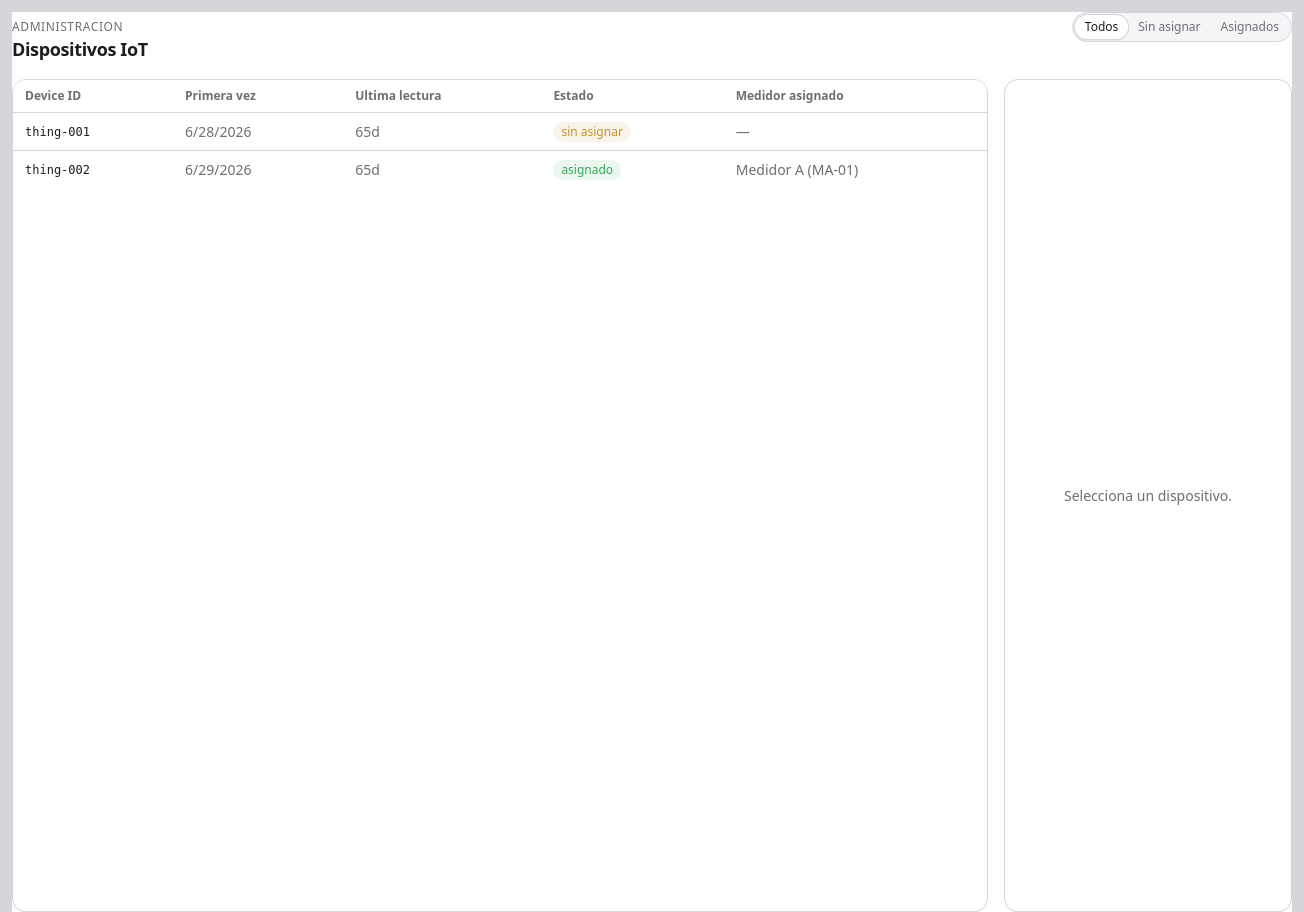
Scenario: IotDevicesPage › clicking assigned device shows unassign button in detail panel
This screenshot has width=1304, height=912.
Step 1. Click the text "thing-002" → (93, 169), box [13,150,173,188]
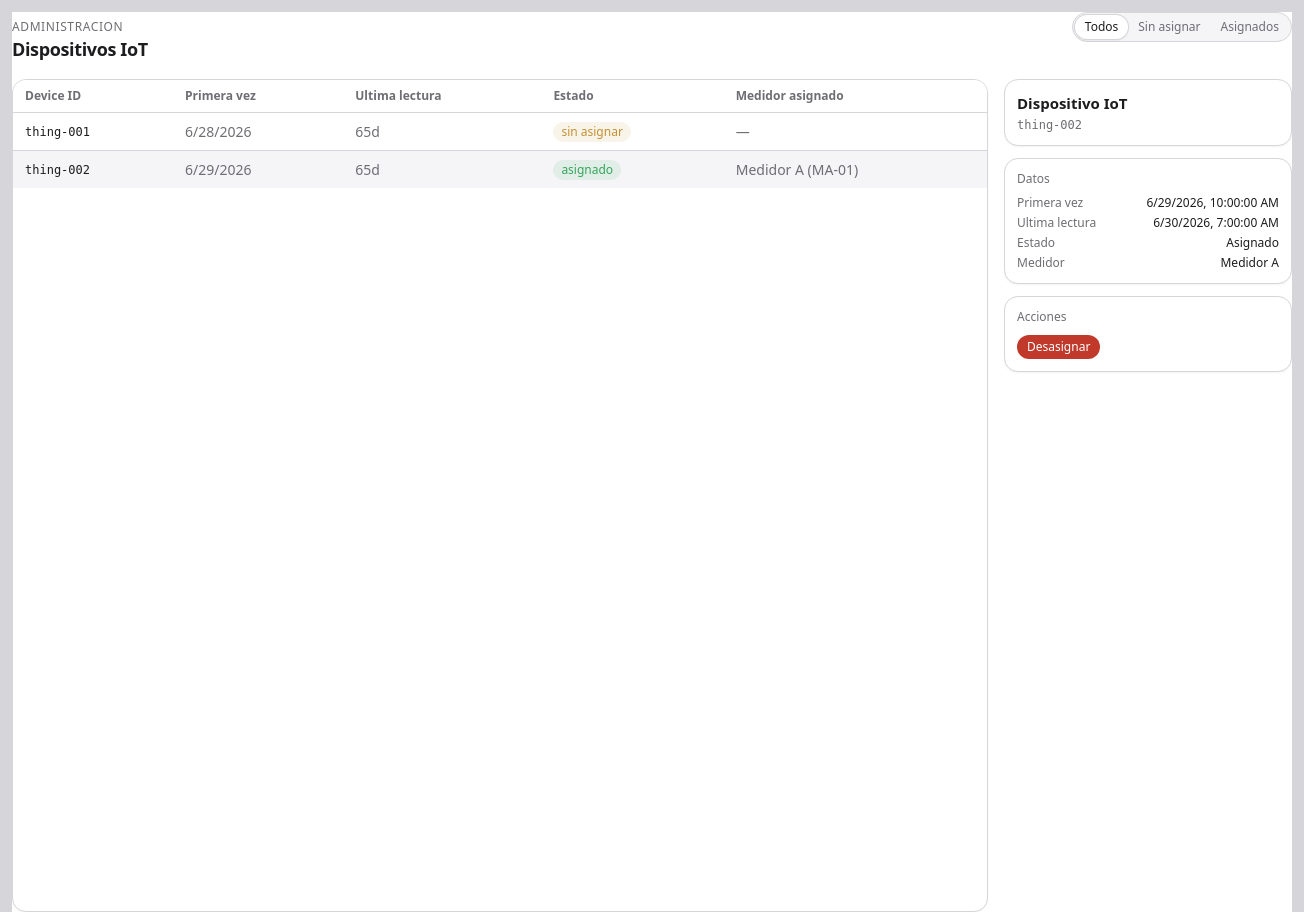
Expected: the button "Desasignar" is shown, [1017,334,1100,358]
